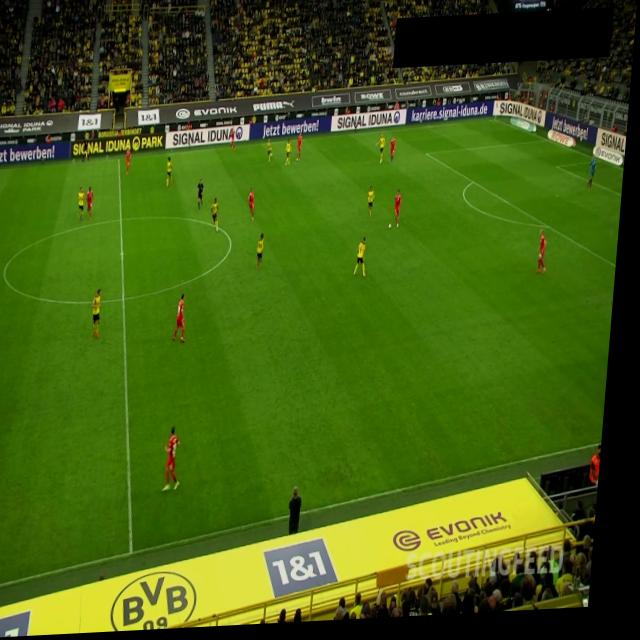goalkeeper: (589, 163, 600, 197)
player: (169, 428, 192, 495), (178, 295, 195, 345), (358, 240, 375, 283), (95, 290, 108, 340), (541, 234, 553, 281), (213, 200, 225, 235), (79, 186, 90, 223), (377, 137, 389, 168), (260, 236, 270, 273), (397, 194, 406, 232), (88, 187, 98, 221), (168, 157, 178, 190), (250, 191, 260, 223), (370, 190, 379, 222), (231, 130, 241, 154), (298, 136, 306, 165), (391, 139, 399, 168), (127, 149, 135, 177), (287, 141, 295, 169), (269, 140, 275, 165)
referee: (84, 136, 94, 164), (200, 180, 208, 212)
